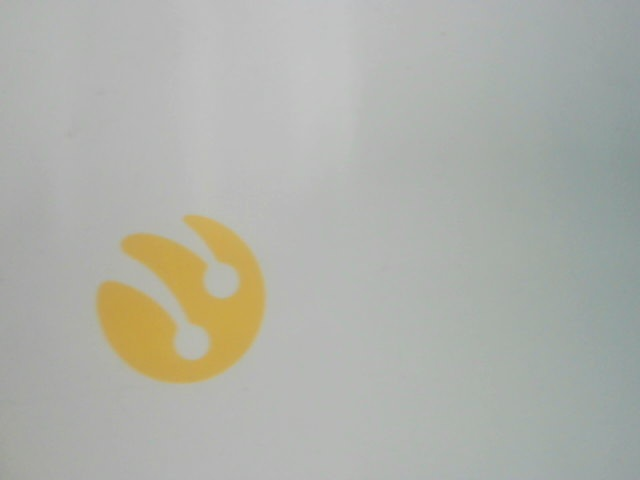AV_H3600Yellow: (77, 216, 287, 386)
